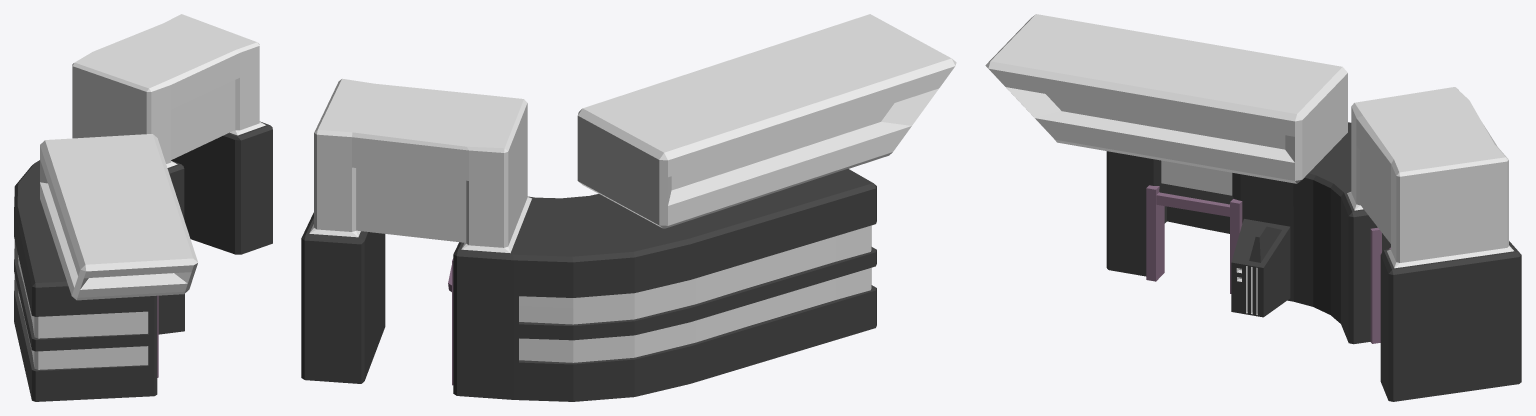
The model's file is Spider Island Level 1 Big Building.fbx.
The picture shows the model from 3 angles, left to right: view 1: azimuth 30°, elevation 25°; view 2: azimuth 150°, elevation 25°; view 3: azimuth 270°, elevation 25°; orthographic projection. The views are drawn at different scales.
Parts seen in each view (by area): view 1: Big Bulding; view 2: Big Bulding; view 3: Big Bulding.
Part boxes in pixels (x1,y1,x2,y2): Big Bulding: (14,14,272,401); Big Bulding: (301,14,956,401); Big Bulding: (985,14,1521,401).
Size of the model in its own units: 22.94 by 12.49 by 27.24.
